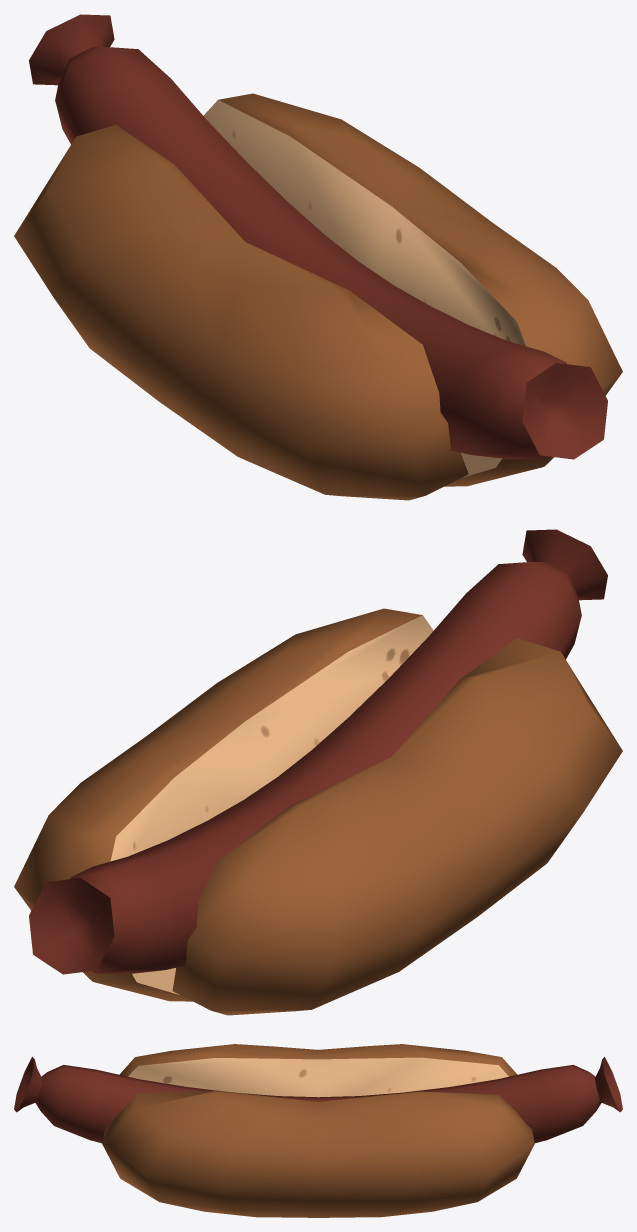
The model's file is hotdog.fbx.
3 renders of one model, top to bottom at view 1: azimuth 30°, elevation 25°; view 2: azimuth 150°, elevation 25°; view 3: azimuth 270°, elevation 25°, orthographic. The views are drawn at different scales.
Visible parts, largest first — view 1: bun_low_poly, wurst_low_poly; view 2: bun_low_poly, wurst_low_poly; view 3: bun_low_poly, wurst_low_poly.
Boxes of the visible parts, left/top/right/bottom form: bun_low_poly: left=14, top=93, right=622, bottom=500; wurst_low_poly: left=29, top=14, right=607, bottom=459; bun_low_poly: left=14, top=608, right=622, bottom=1015; wurst_low_poly: left=29, top=529, right=607, bottom=974; bun_low_poly: left=102, top=1044, right=534, bottom=1217; wurst_low_poly: left=14, top=1056, right=622, bottom=1143.
Size of the model in its own units: 687 by 421 by 1639.
Materials: 3 (1 with a texture image).
